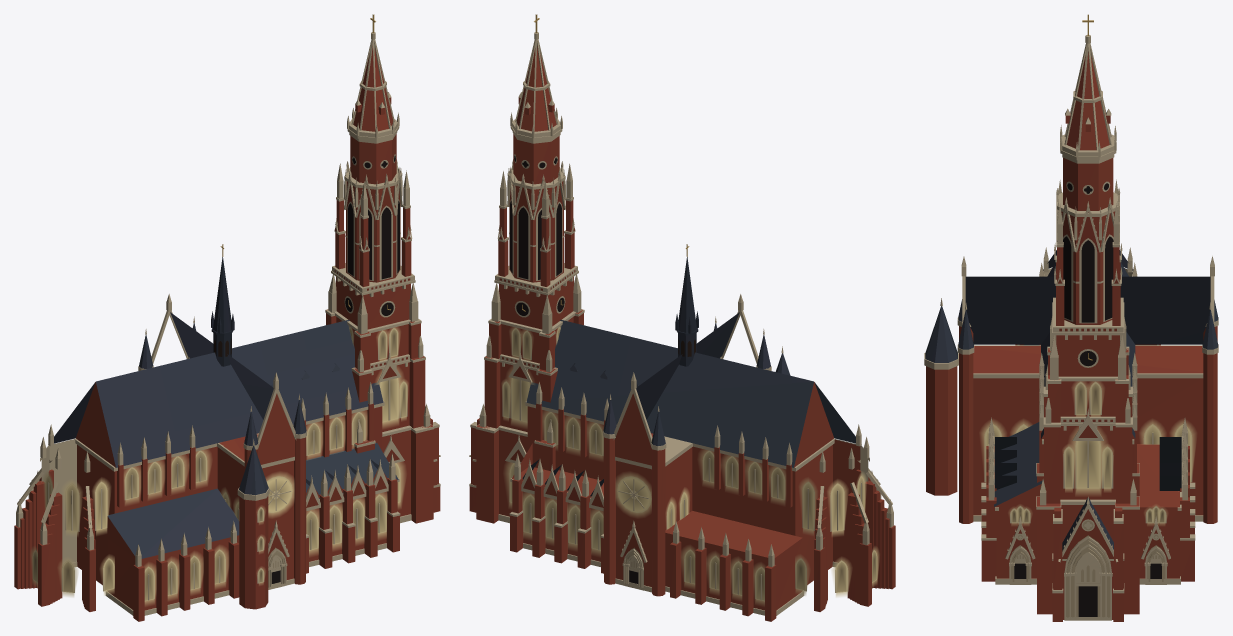
File: konkatedrala.glb
3 views of the same model, side by side, from view 1: azimuth 30°, elevation 25°; view 2: azimuth 150°, elevation 25°; view 3: azimuth 270°, elevation 25° (orthographic). The views are drawn at different scales.
Parts seen in each view (by area): view 1: konkatedrala, sjaj; view 2: konkatedrala, sjaj; view 3: konkatedrala, sjaj.
Part boxes in pixels (<box>): konkatedrala: <box>14,14,440,621</box>; sjaj: <box>30,326,408,605</box>; konkatedrala: <box>469,14,895,621</box>; sjaj: <box>501,326,879,605</box>; konkatedrala: <box>924,14,1218,621</box>; sjaj: <box>980,381,1196,525</box>.
Bounding box in the file's own units: 79.01 × 94 × 43.38.
